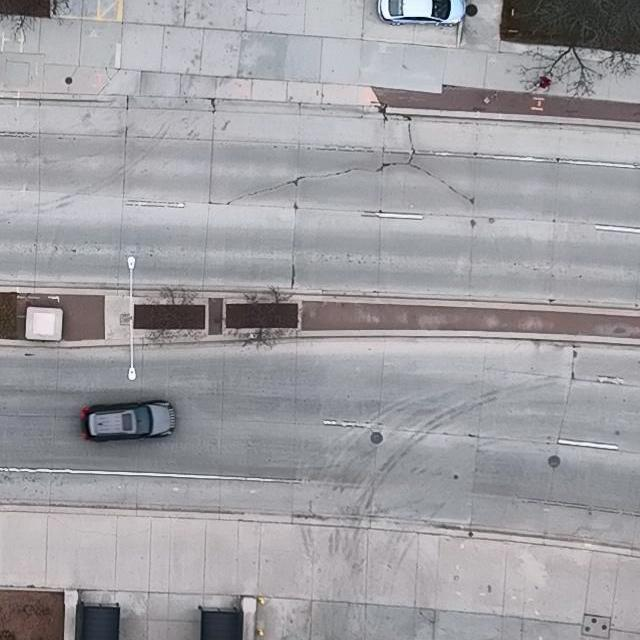car: (80, 400, 177, 441), (376, 0, 466, 26)
